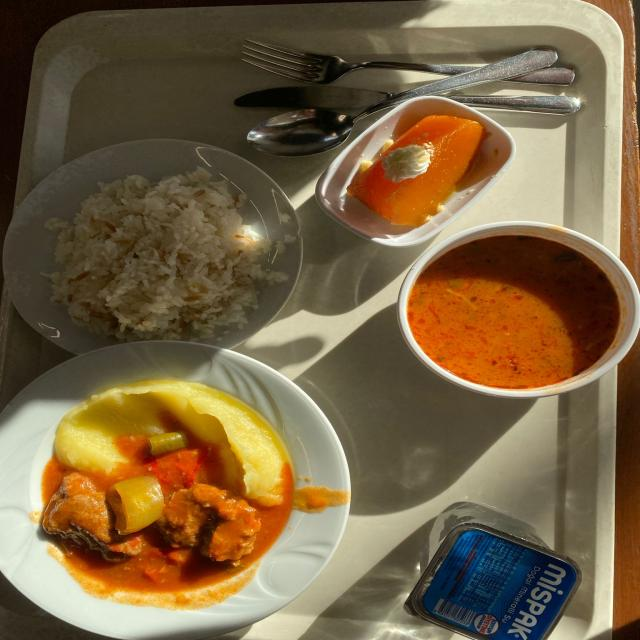ana_yemek: (39, 366, 286, 620), (9, 148, 280, 347)
corba: (379, 208, 610, 417)
yan_yemek: (302, 98, 484, 235)
